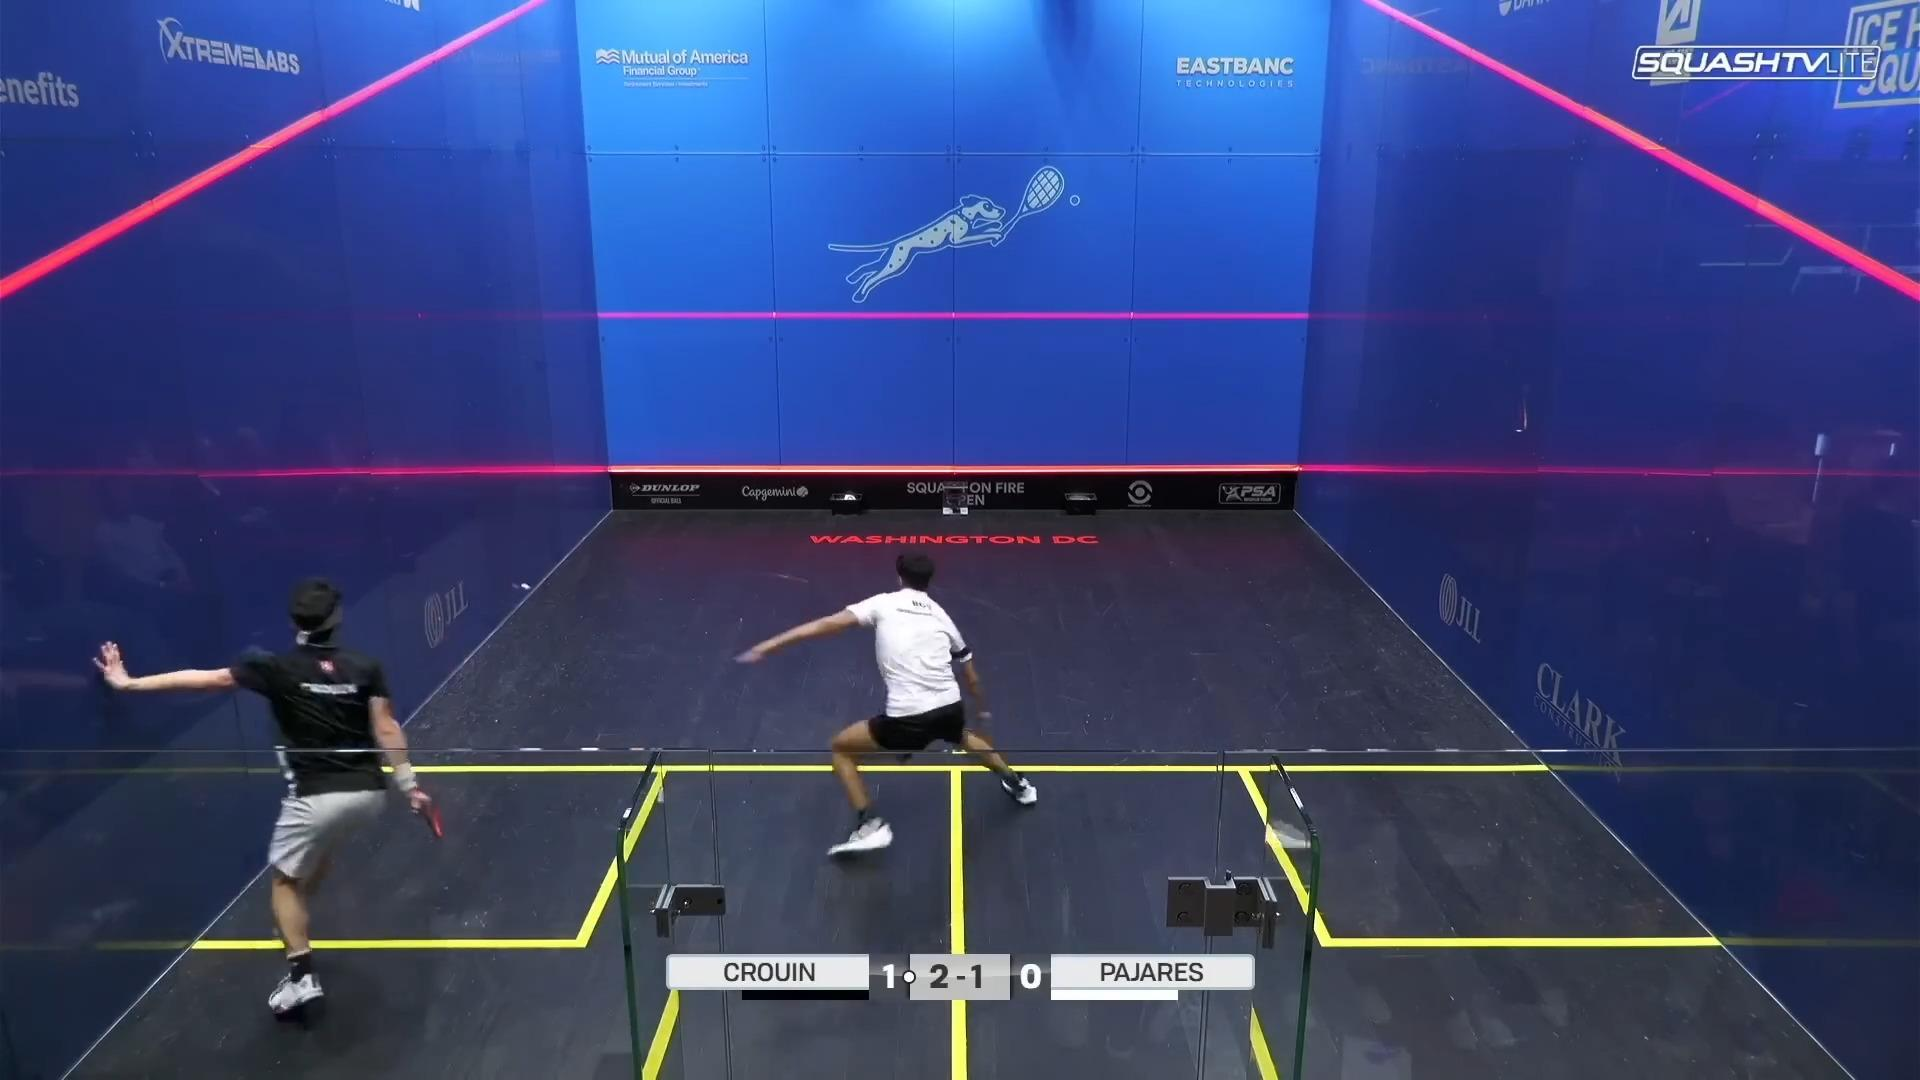Squash-Ball: (516, 571, 541, 605)
